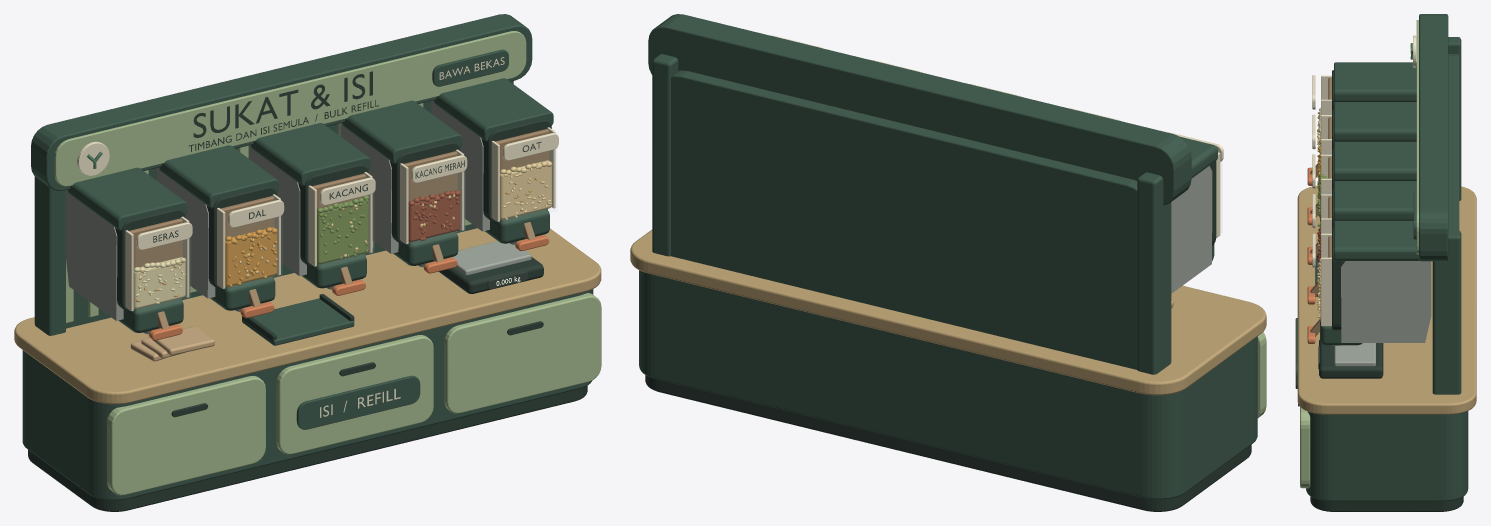
3 views of the same model, side by side, from view 1: azimuth 30°, elevation 25°; view 2: azimuth 150°, elevation 25°; view 3: azimuth 270°, elevation 25° (orthographic). The views are drawn at different scales.
Visible parts, largest first — view 1: Sukat and Isi | Grocery Refill Island - Refill Cabinet, Sukat and Isi | Grocery Refill Island - Dispenser Rack, Sukat and Isi | Grocery Refill Island - Hopper Frames, Sukat and Isi | Grocery Refill Island - Graphics, Sukat and Isi | Grocery Refill Island - Grain Fill, Sukat and Isi | Grocery Refill Island - Hopper Controls, Sukat and Isi | Grocery Refill Island - Checkout; view 2: Sukat and Isi | Grocery Refill Island - Dispenser Rack, Sukat and Isi | Grocery Refill Island - Refill Cabinet, Sukat and Isi | Grocery Refill Island - Hopper Frames; view 3: Sukat and Isi | Grocery Refill Island - Refill Cabinet, Sukat and Isi | Grocery Refill Island - Dispenser Rack, Sukat and Isi | Grocery Refill Island - Hopper Frames, Sukat and Isi | Grocery Refill Island - Checkout, Sukat and Isi | Grocery Refill Island - Hopper Controls, Sukat and Isi | Grocery Refill Island - Graphics, Sukat and Isi | Grocery Refill Island - Grain Fill.
Boxes of the visible parts, x1=… form: Sukat and Isi | Grocery Refill Island - Refill Cabinet: x1=14, y1=228, x2=601, y2=511; Sukat and Isi | Grocery Refill Island - Dispenser Rack: x1=31, y1=14, x2=547, y2=335; Sukat and Isi | Grocery Refill Island - Hopper Frames: x1=68, y1=78, x2=555, y2=311; Sukat and Isi | Grocery Refill Island - Graphics: x1=77, y1=49, x2=558, y2=429; Sukat and Isi | Grocery Refill Island - Grain Fill: x1=133, y1=160, x2=552, y2=308; Sukat and Isi | Grocery Refill Island - Hopper Controls: x1=118, y1=209, x2=549, y2=340; Sukat and Isi | Grocery Refill Island - Checkout: x1=130, y1=241, x2=543, y2=361; Sukat and Isi | Grocery Refill Island - Dispenser Rack: x1=648, y1=14, x2=1212, y2=374; Sukat and Isi | Grocery Refill Island - Refill Cabinet: x1=630, y1=229, x2=1266, y2=511; Sukat and Isi | Grocery Refill Island - Hopper Frames: x1=1180, y1=136, x2=1220, y2=245; Sukat and Isi | Grocery Refill Island - Refill Cabinet: x1=1297, y1=185, x2=1476, y2=511; Sukat and Isi | Grocery Refill Island - Dispenser Rack: x1=1341, y1=14, x2=1461, y2=394; Sukat and Isi | Grocery Refill Island - Hopper Frames: x1=1321, y1=62, x2=1419, y2=330; Sukat and Isi | Grocery Refill Island - Checkout: x1=1315, y1=255, x2=1383, y2=378; Sukat and Isi | Grocery Refill Island - Hopper Controls: x1=1307, y1=163, x2=1362, y2=345; Sukat and Isi | Grocery Refill Island - Graphics: x1=1295, y1=35, x2=1416, y2=388; Sukat and Isi | Grocery Refill Island - Grain Fill: x1=1317, y1=107, x2=1327, y2=321.
Size of the model in its own units: 3.92 by 2.43 by 1.36.
